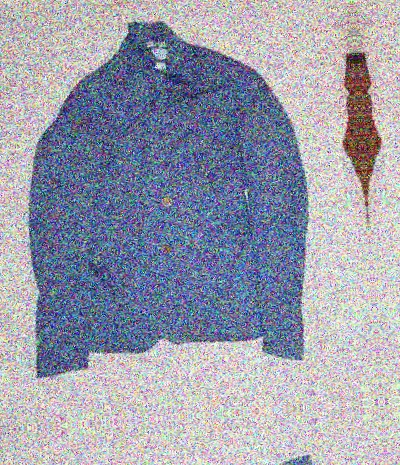Blazer: (0, 0, 330, 392), (30, 443, 363, 465)
